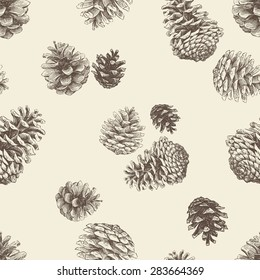Pc: (158, 2, 223, 62), (0, 103, 46, 186), (122, 138, 188, 190), (41, 37, 91, 94), (95, 103, 146, 154), (215, 50, 260, 101), (184, 195, 228, 247), (53, 179, 102, 219), (94, 44, 127, 88), (149, 103, 182, 133)
